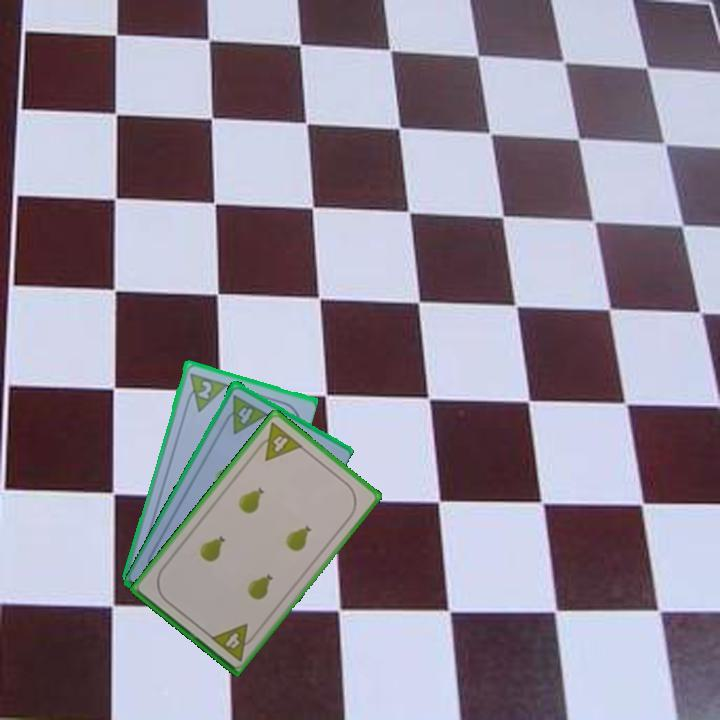2p: (193, 377, 215, 402)
4p: (251, 418, 305, 464), (218, 391, 270, 436), (207, 620, 260, 664)
